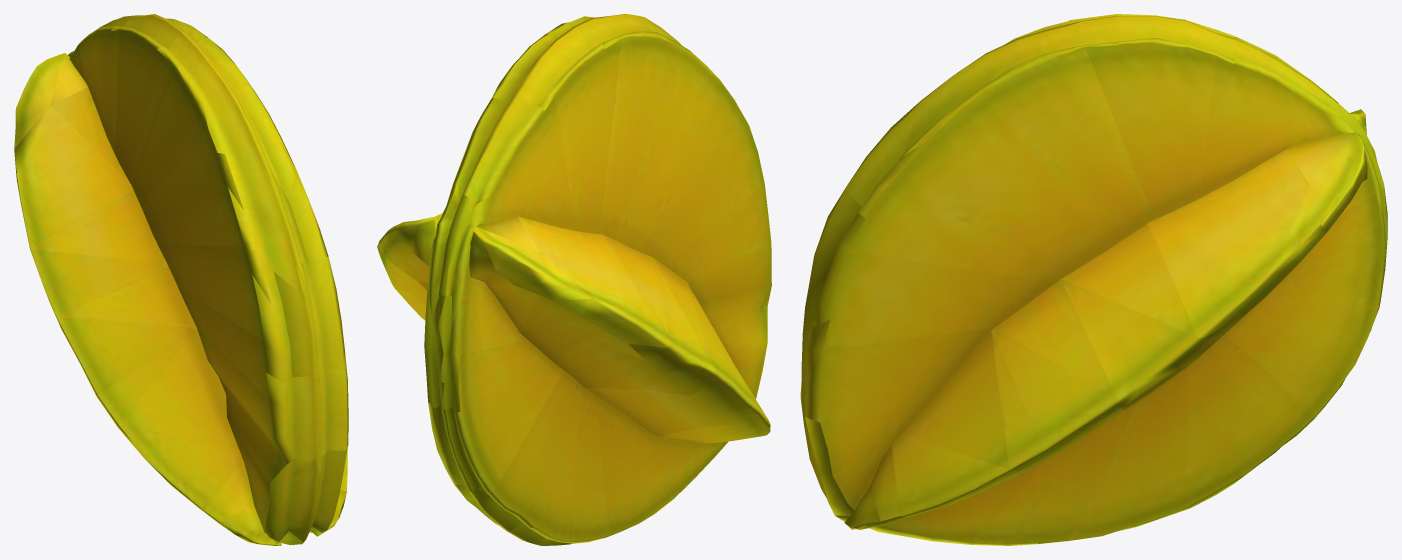
The model's file is starfruit.glb.
The picture shows the model from 3 angles, left to right: view 1: azimuth 30°, elevation 25°; view 2: azimuth 150°, elevation 25°; view 3: azimuth 270°, elevation 25°; orthographic projection. The views are drawn at different scales.
Parts seen in each view (by area): view 1: mesh_node; view 2: mesh_node; view 3: mesh_node.
Boxes of the visible parts, left/top/right/bottom form: mesh_node: left=14, top=14, right=348, bottom=545; mesh_node: left=377, top=14, right=771, bottom=545; mesh_node: left=800, top=14, right=1387, bottom=545.
Size of the model in its own units: 0.5605 by 0.9902 by 1.
Materials: 1 (1 with a texture image).
